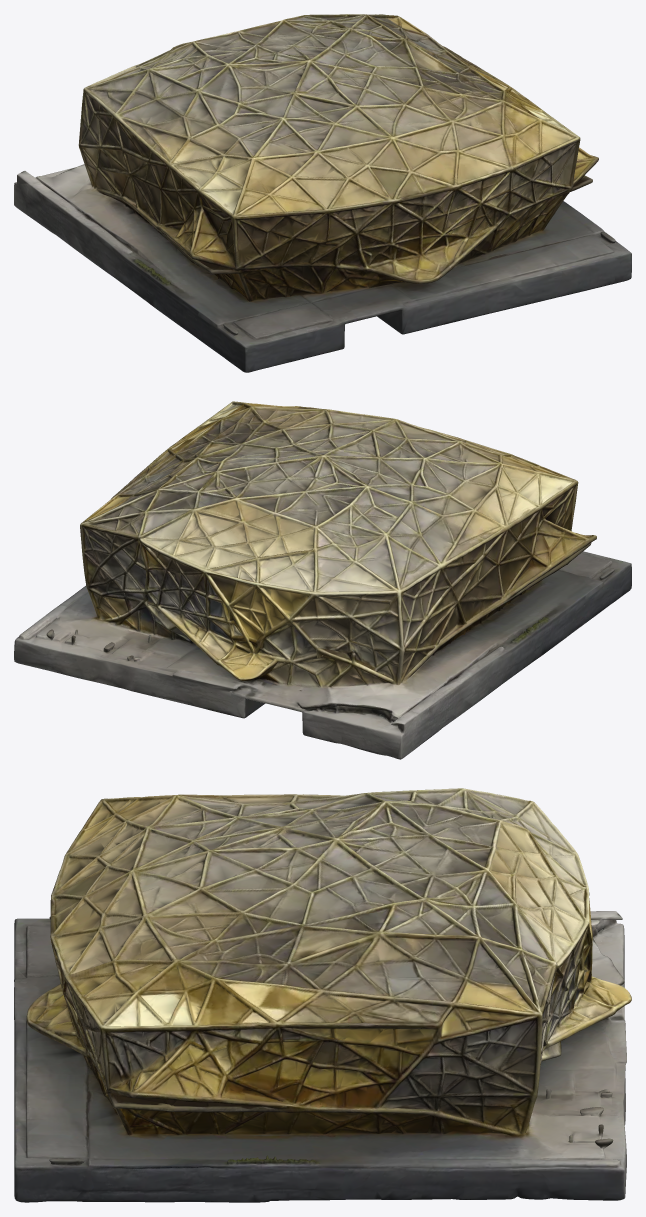
File: concert.glb
3 renders of one model, top to bottom at view 1: azimuth 30°, elevation 25°; view 2: azimuth 150°, elevation 25°; view 3: azimuth 270°, elevation 25°, orthographic. The views are drawn at different scales.
Visible parts, largest first — view 1: tripo_node_d8c752fe-97f1-498e-a224-0d2490cd0ca3; view 2: tripo_node_d8c752fe-97f1-498e-a224-0d2490cd0ca3; view 3: tripo_node_d8c752fe-97f1-498e-a224-0d2490cd0ca3.
Part boxes in pixels (bbox=[...]): tripo_node_d8c752fe-97f1-498e-a224-0d2490cd0ca3: bbox=[14, 14, 631, 372]; tripo_node_d8c752fe-97f1-498e-a224-0d2490cd0ca3: bbox=[14, 401, 631, 759]; tripo_node_d8c752fe-97f1-498e-a224-0d2490cd0ca3: bbox=[14, 788, 631, 1202].
Size of the model in its own units: 0.9999 by 0.4219 by 0.9988.
1 material, 1 textured.
